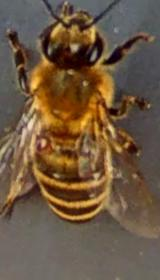varroa_mite: (31, 128, 58, 159)
